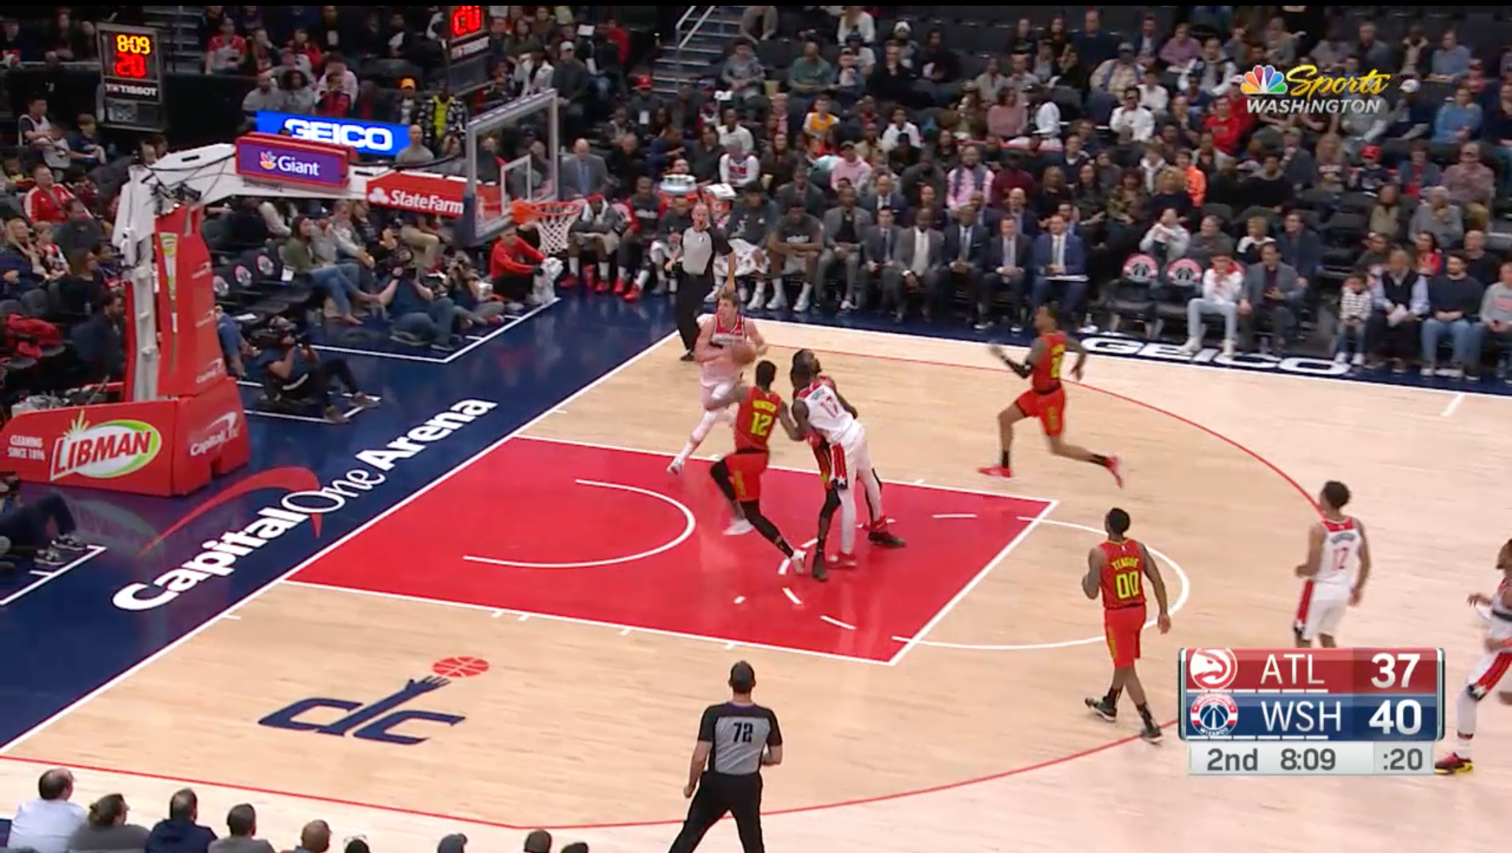Foul: (790, 342, 891, 574)
